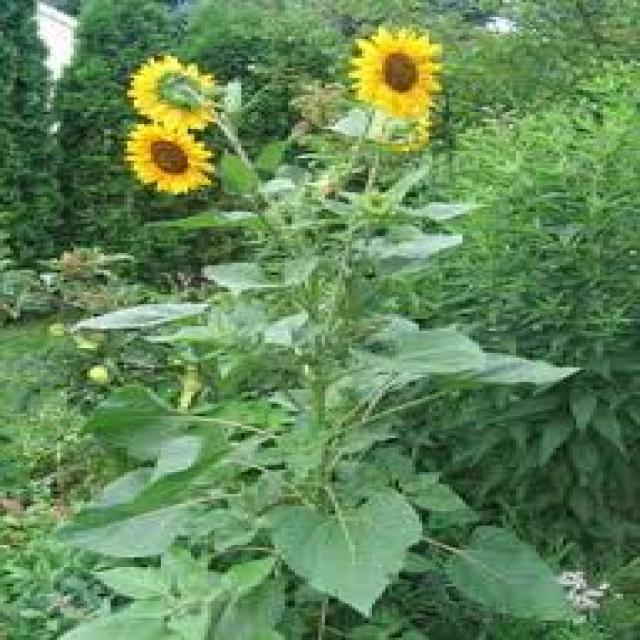sunflower: (348, 23, 450, 128), (118, 46, 234, 136), (117, 119, 227, 193)
